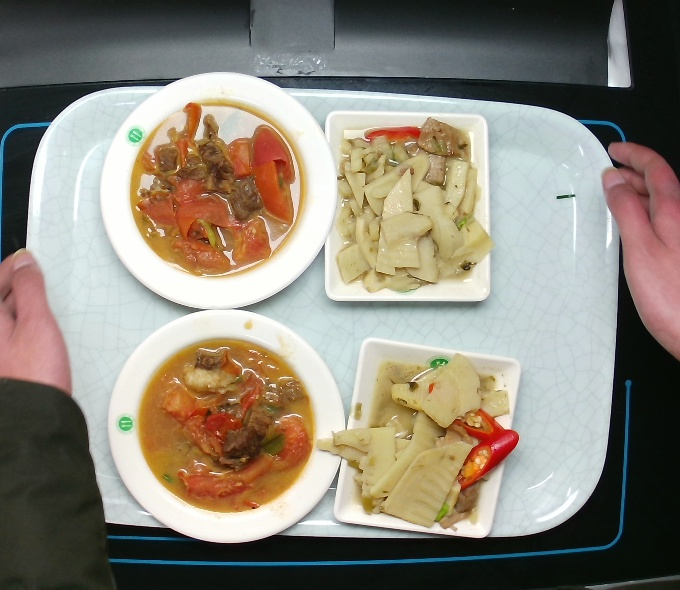wcq-DongSun: (311, 350, 517, 534), (332, 122, 495, 299)
wcq-FanQiwNiuRou: (123, 87, 303, 284), (135, 334, 323, 520)
